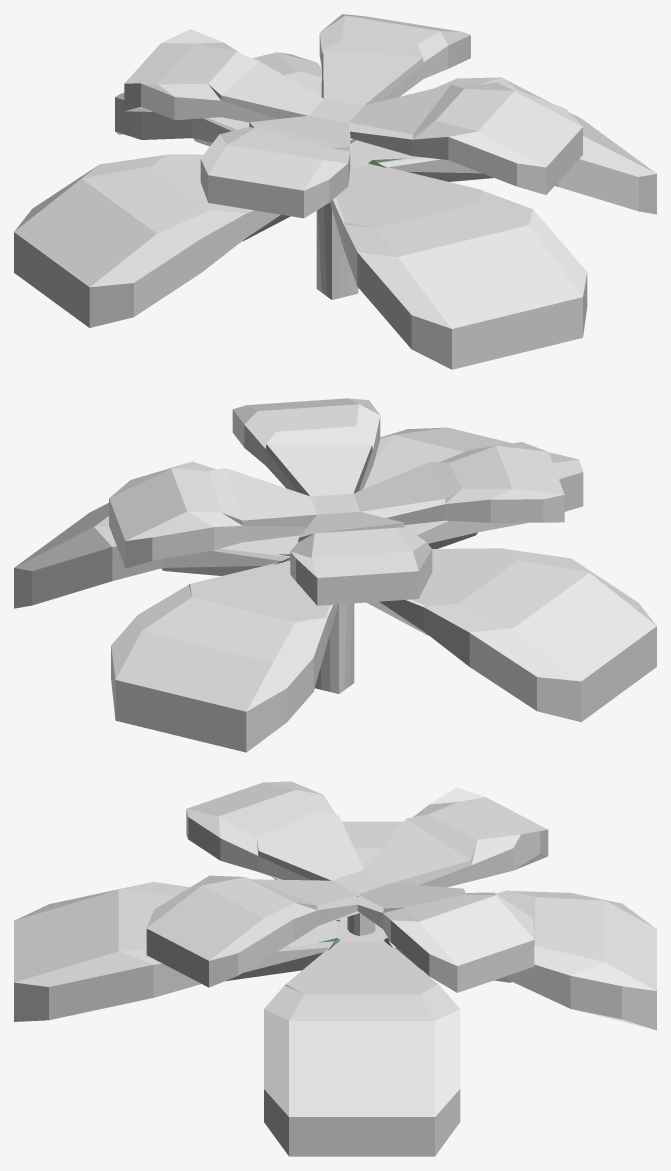
File: resource__plant__green-bush__tall.fbx
The picture shows the model from 3 angles, top to bottom: view 1: azimuth 30°, elevation 25°; view 2: azimuth 150°, elevation 25°; view 3: azimuth 270°, elevation 25°; orthographic projection. The views are drawn at different scales.
Parts seen in each view (by area): view 1: Green_Bush_tall; view 2: Green_Bush_tall; view 3: Green_Bush_tall.
Boxes of the visible parts, x1=… form: Green_Bush_tall: x1=14, y1=14, x2=656, y2=369; Green_Bush_tall: x1=14, y1=398, x2=656, y2=752; Green_Bush_tall: x1=14, y1=781, x2=656, y2=1156.
Size of the model in its own units: 124 by 43.61 by 126.
